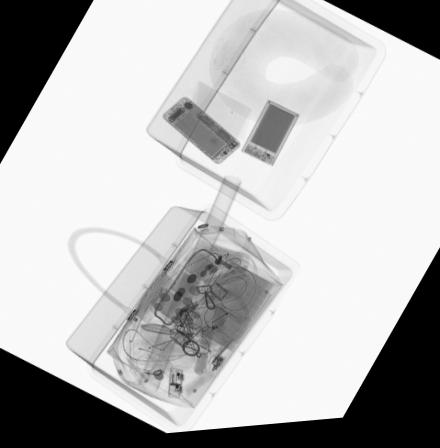Lighter: (208, 326, 232, 350)
